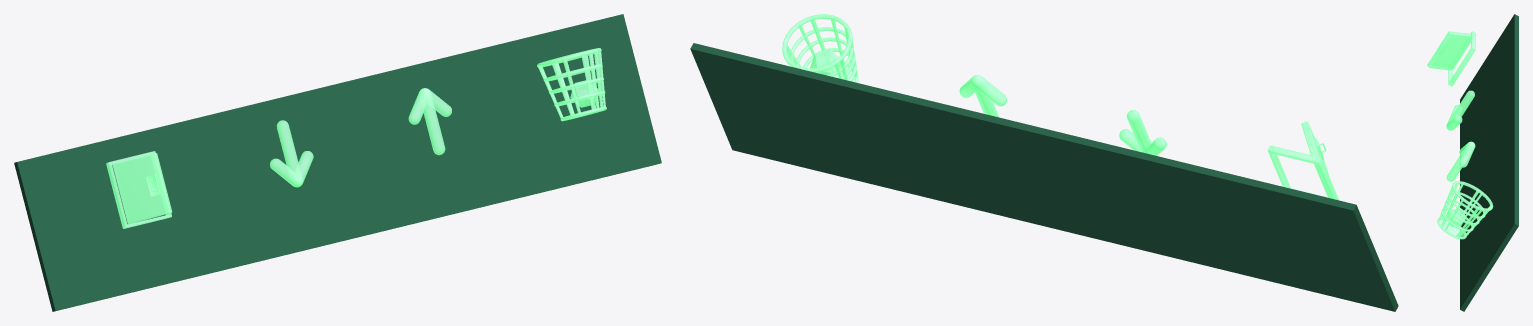
File: icon4.fbx
3 views of the same model, side by side, from view 1: azimuth 30°, elevation 25°; view 2: azimuth 150°, elevation 25°; view 3: azimuth 270°, elevation 25° (orthographic). The views are drawn at different scales.
Parts seen in each view (by area): view 1: cube, door_1, bin_2, down_1, up_1; view 2: cube, bin_2, door_1, down_1, up_1; view 3: cube, bin_2, door_1, down_1, up_1.
Boxes of the visible parts, box(x1,y1,x2,y2) form: cube: box(14, 14, 661, 311); door_1: box(106, 151, 172, 228); bin_2: box(537, 48, 606, 121); down_1: box(270, 120, 313, 187); up_1: box(408, 88, 451, 155); cube: box(690, 43, 1398, 311); bin_2: box(782, 14, 858, 82); door_1: box(1267, 121, 1338, 200); down_1: box(1119, 110, 1166, 155); up_1: box(959, 75, 1006, 117); cube: box(1460, 14, 1518, 311); bin_2: box(1437, 181, 1493, 239); door_1: box(1427, 31, 1475, 86); down_1: box(1446, 90, 1474, 130); up_1: box(1446, 141, 1475, 181).
Bounding box in the file's own units: 2000 × 454 × 369.
